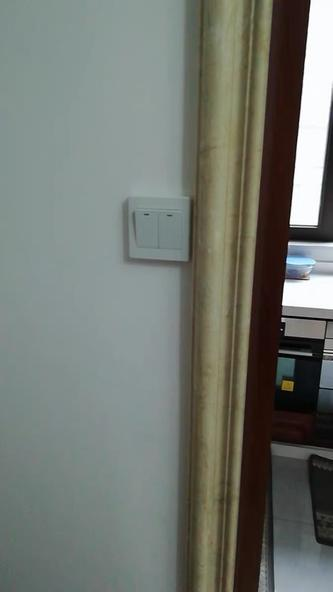switch: (131, 203, 162, 252), (155, 205, 184, 252)
